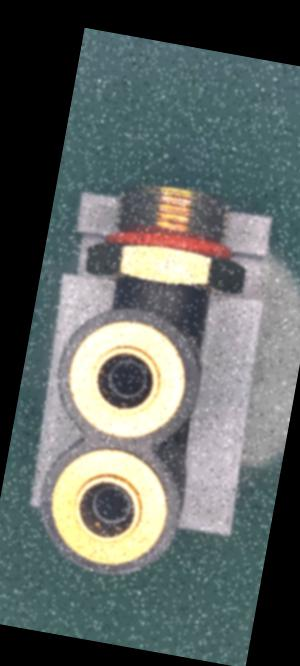joint line: (150, 289, 162, 311)
